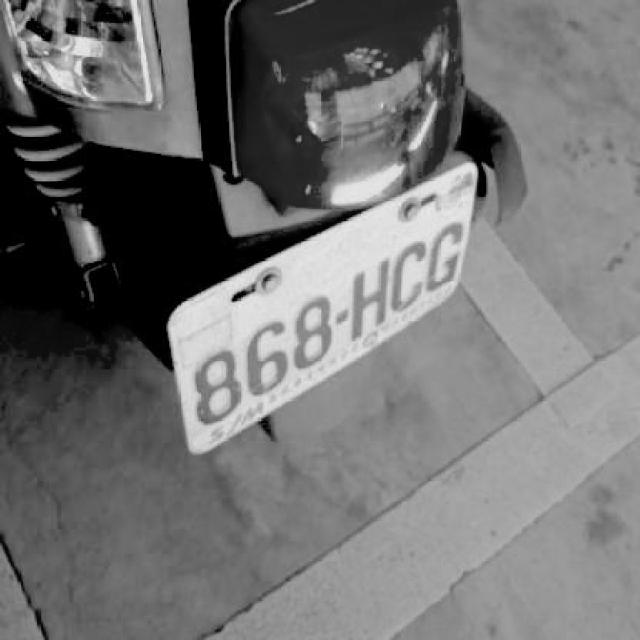-: (334, 305, 348, 323)
6: (245, 317, 289, 392), (23, 0, 60, 38)
8: (192, 348, 243, 420), (292, 296, 331, 370)
C: (389, 242, 425, 310)
G: (426, 217, 466, 295)
H: (354, 263, 386, 340)
